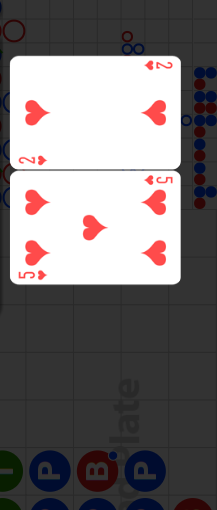2H: (142, 59, 173, 73)
5H: (17, 269, 49, 281)
